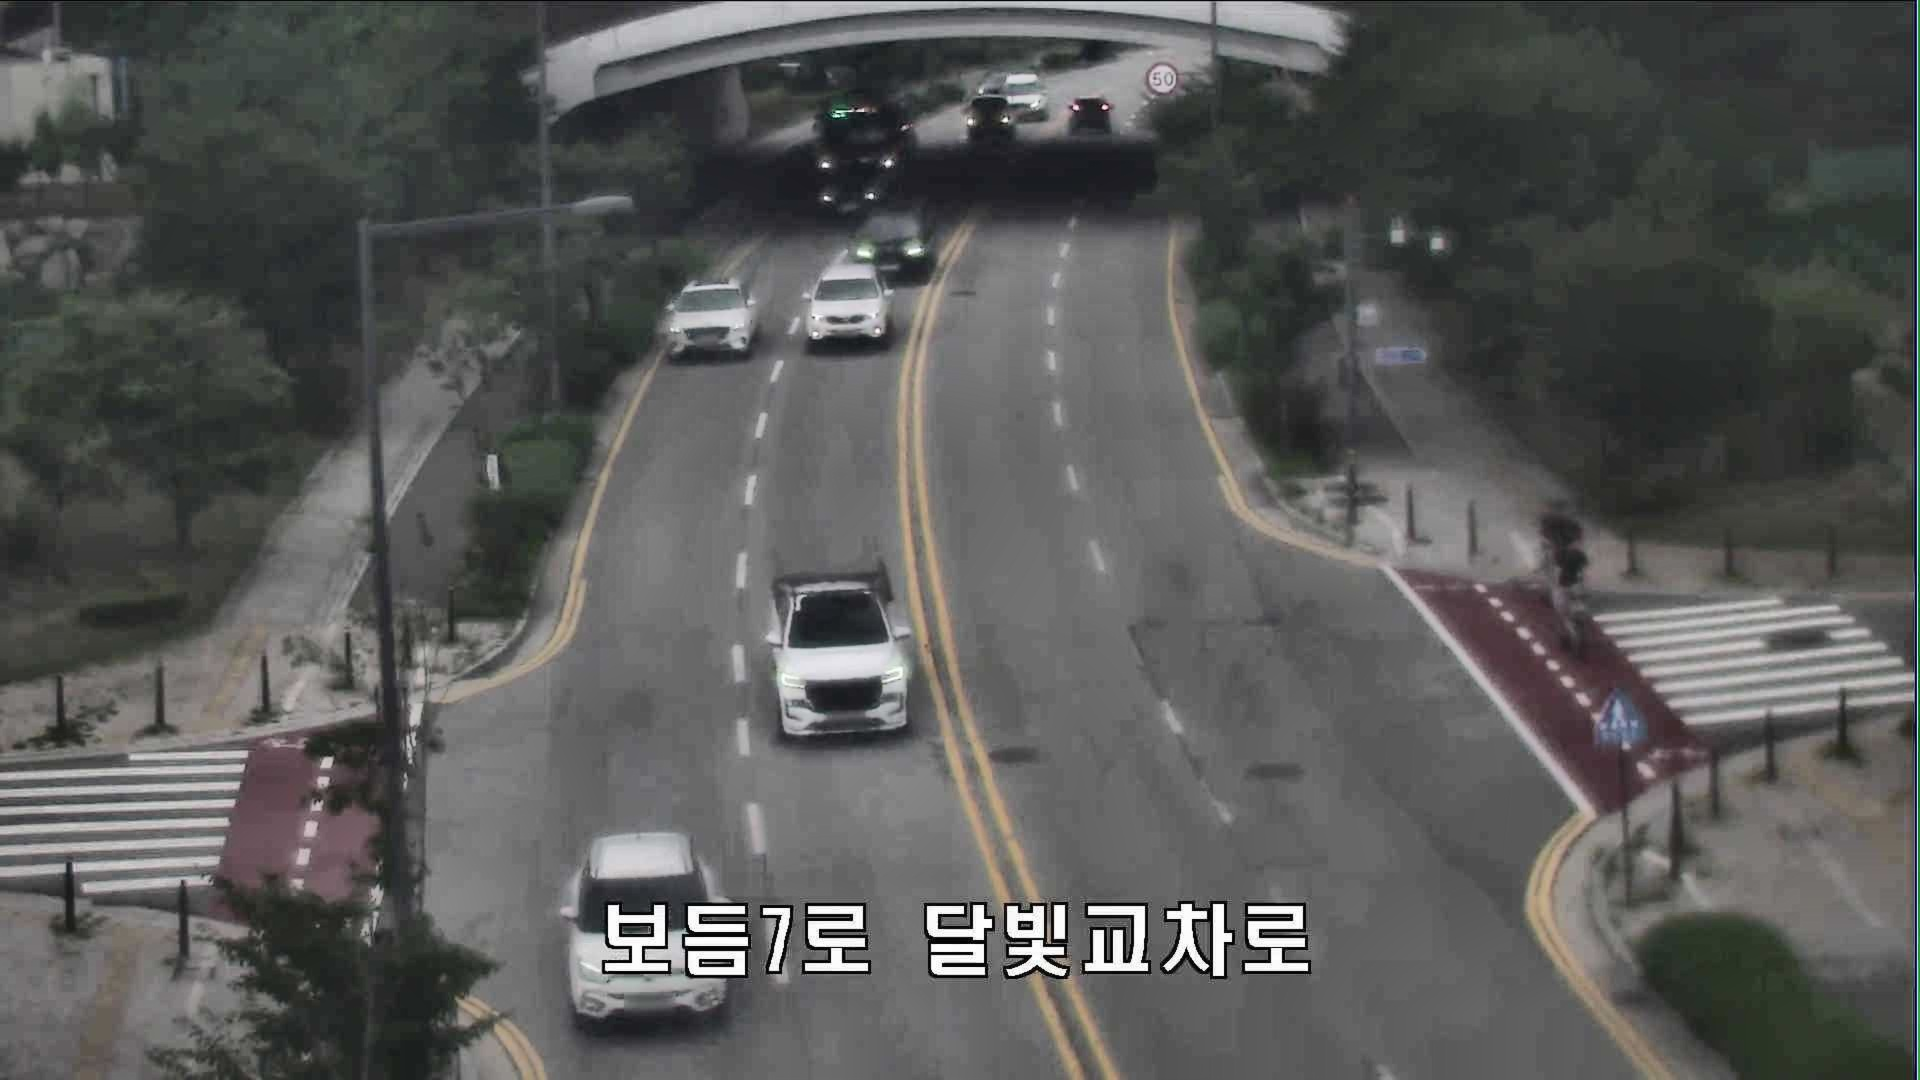crosswalk: (1547, 535, 1592, 642), (1538, 502, 1588, 595)
